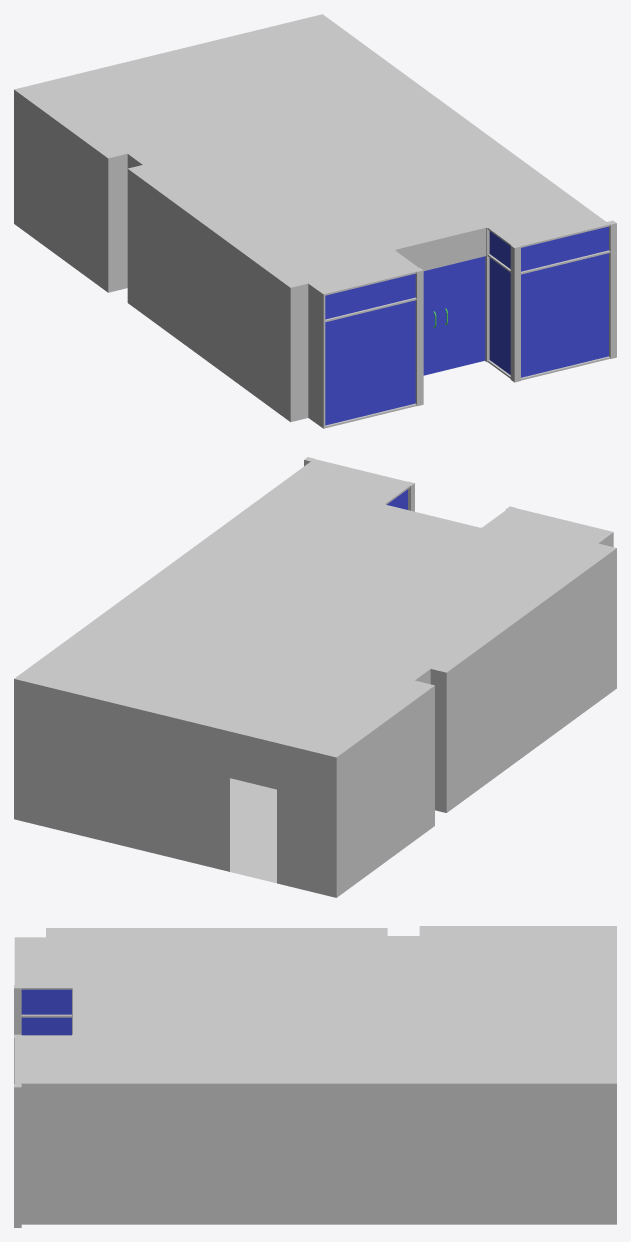
The model's file is O20296_Basicroom.dae.
The picture shows the model from 3 angles, top to bottom: view 1: azimuth 30°, elevation 25°; view 2: azimuth 150°, elevation 25°; view 3: azimuth 270°, elevation 25°; orthographic projection. The views are drawn at different scales.
Visible parts, largest first — view 1: Basicroom; view 2: Basicroom; view 3: Basicroom.
Boxes of the visible parts, left/top/right/bottom form: Basicroom: left=14, top=14, right=616, bottom=428; Basicroom: left=14, top=457, right=616, bottom=897; Basicroom: left=14, top=926, right=616, bottom=1227.
Size of the model in its own units: 7.36 by 11.64 by 3.
